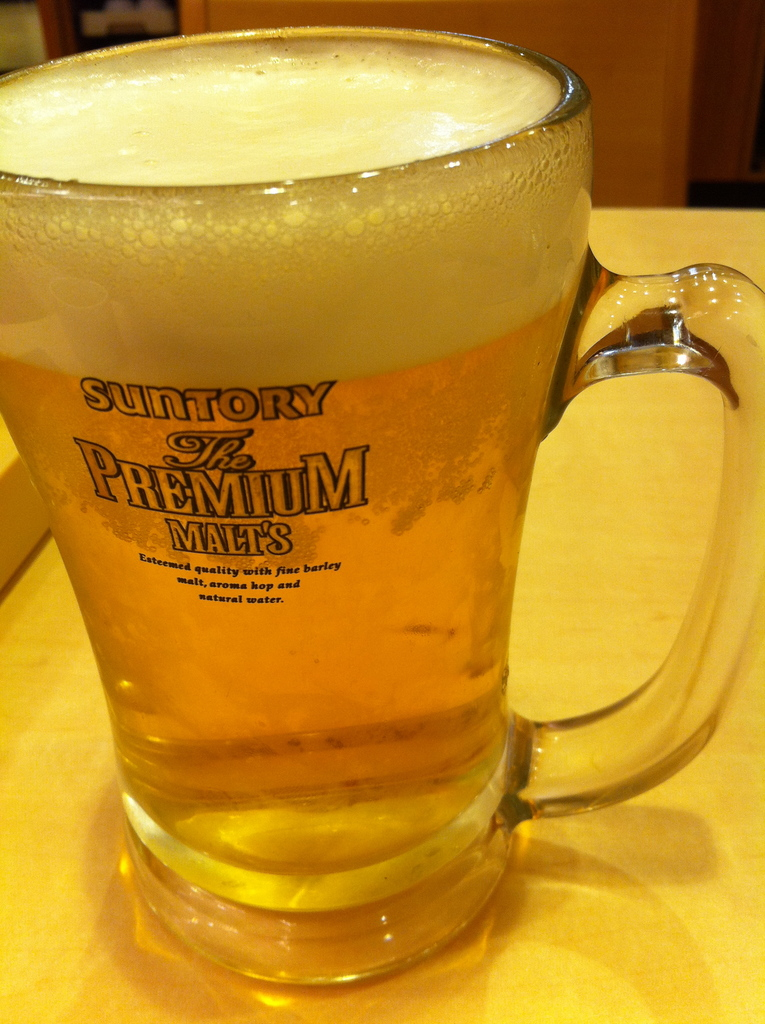Beer: (0, 25, 589, 975)
